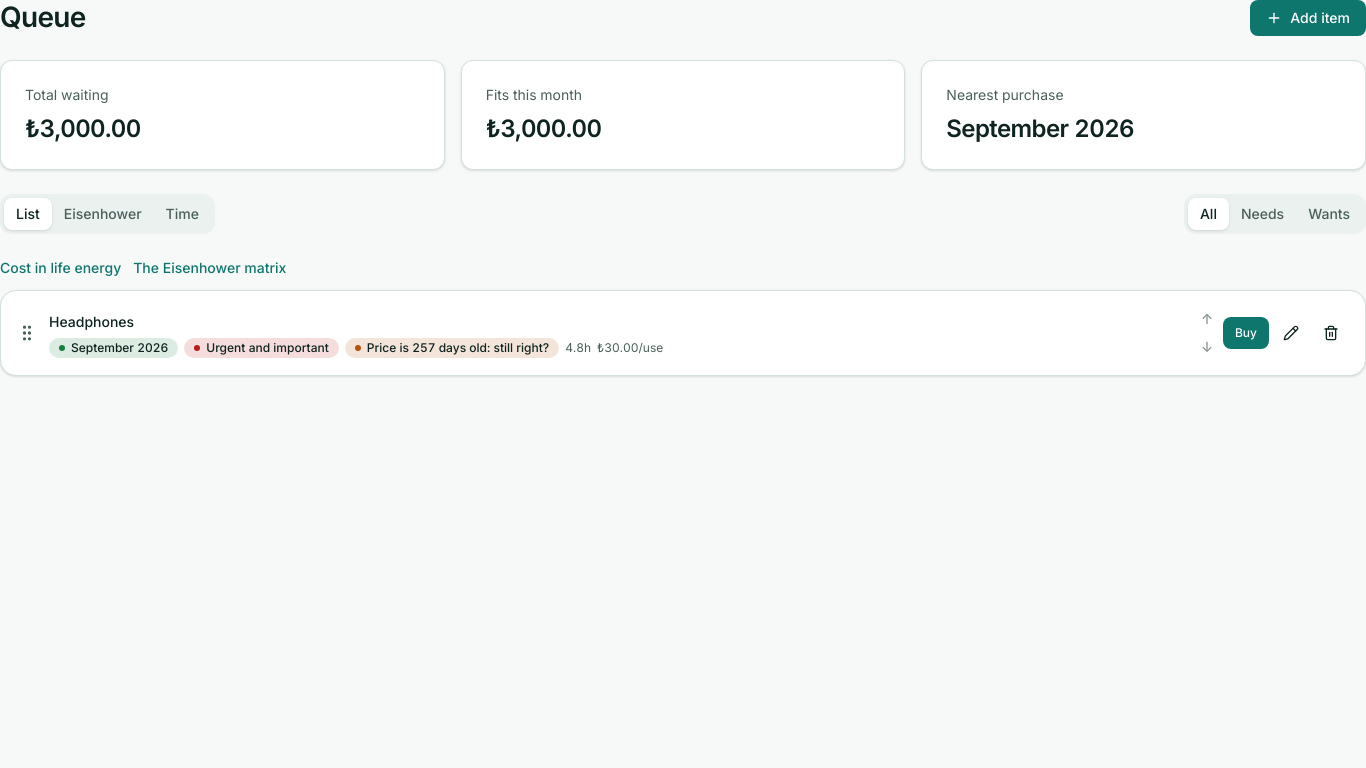
QueuePage purchase flow › shows the first month the scheduler finds room for the selected item
Click the button "Headphones": x=92, y=322 [37,310,146,334]
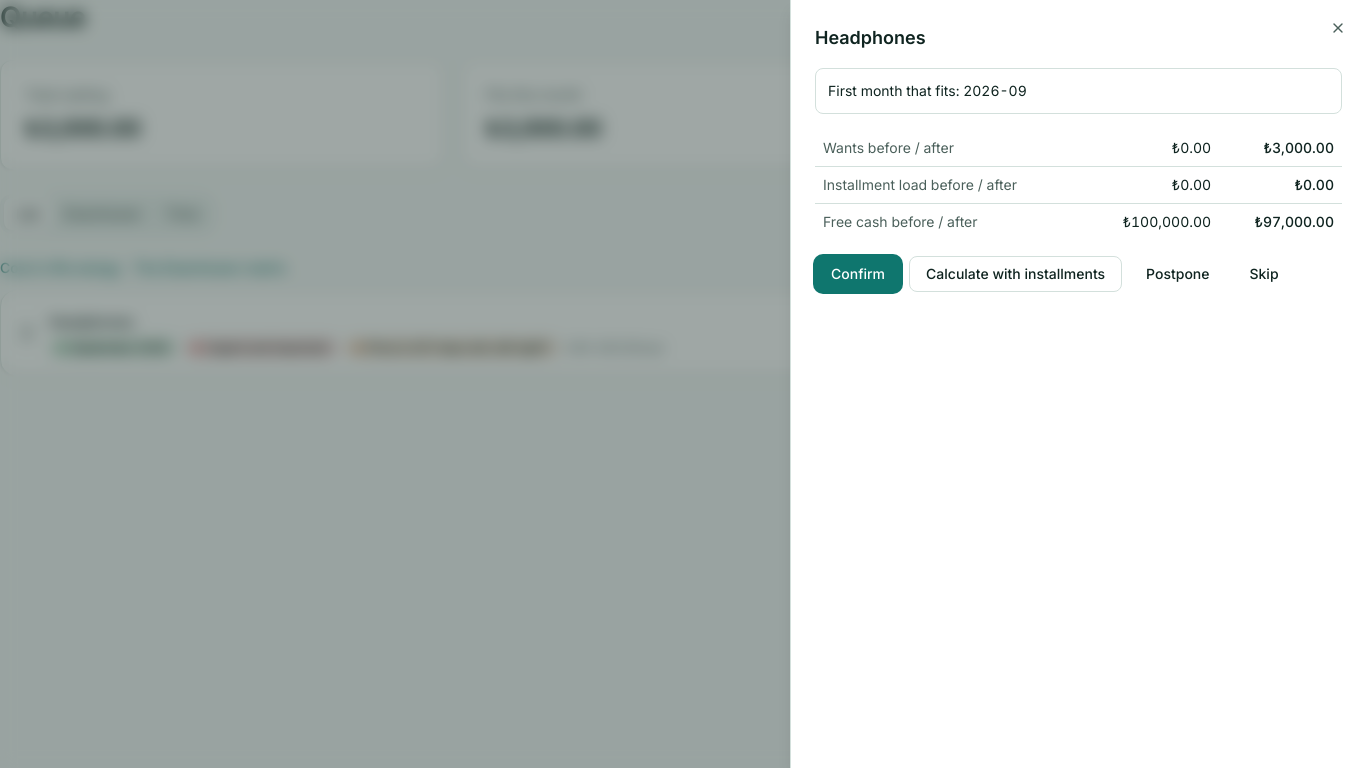
Now the element with test id "suggested-month" shows "2026-09", box [828,82,1027,99]
